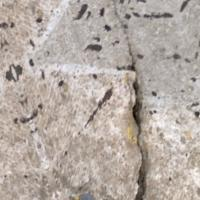crack: (90, 46, 175, 199)
